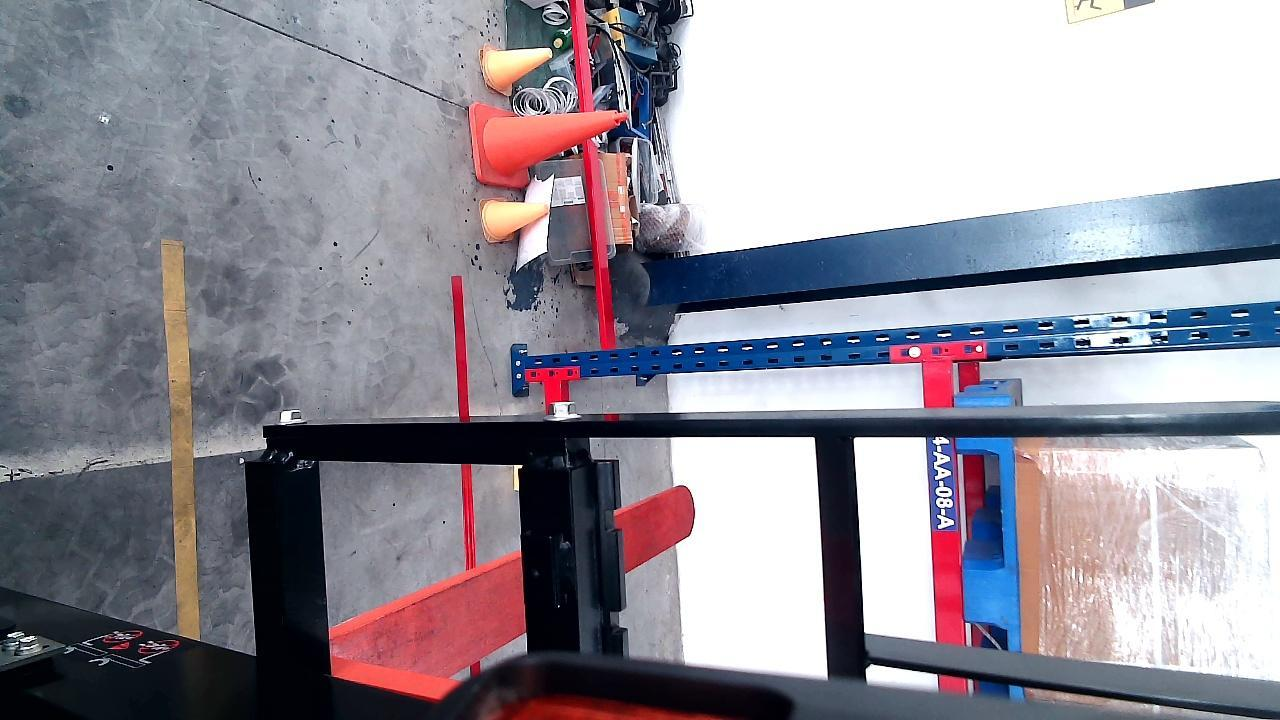red_line: (450, 277, 482, 570)
yellow_line: (162, 238, 199, 642)
